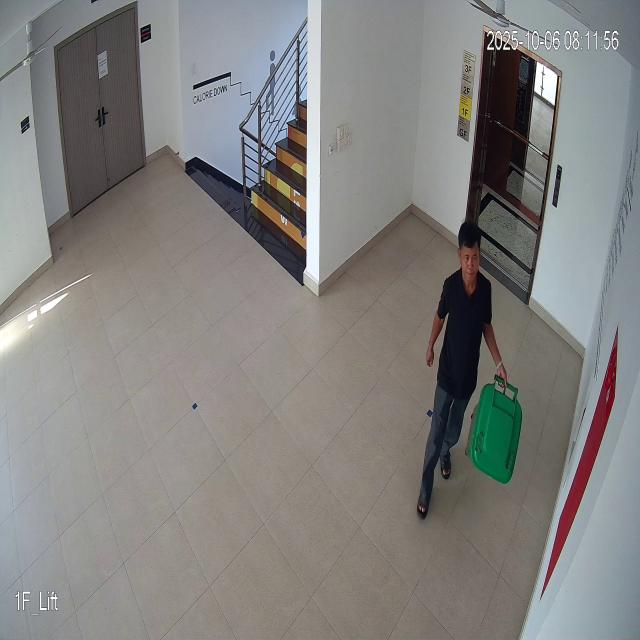face: (457, 218, 482, 290)
